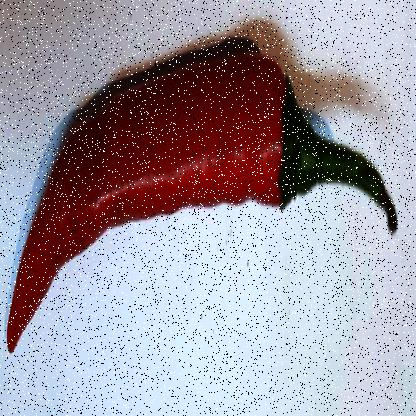chili: (5, 46, 396, 356)
